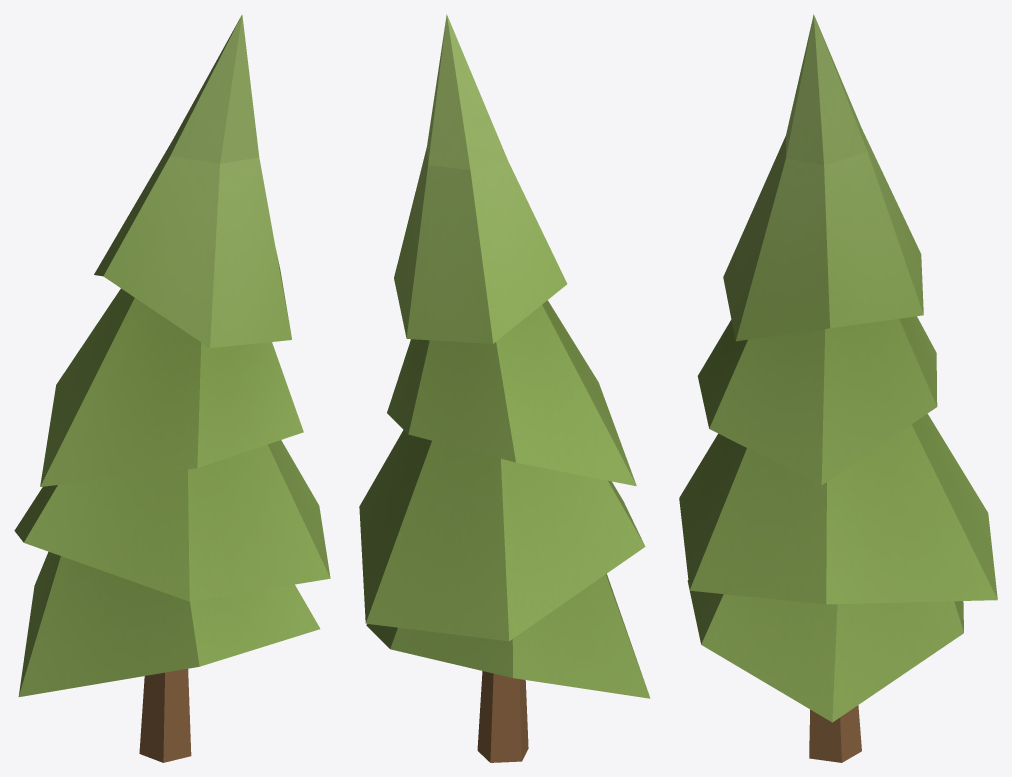
Rendered from Pine_Tree_m_10_LOD.fbx.
3 views of the same model, side by side, from view 1: azimuth 30°, elevation 25°; view 2: azimuth 150°, elevation 25°; view 3: azimuth 270°, elevation 25° (orthographic). The views are drawn at different scales.
Parts seen in each view (by area): view 1: Pine_Tree_m_10_LOD0; view 2: Pine_Tree_m_10_LOD0; view 3: Pine_Tree_m_10_LOD0.
Boxes of the visible parts, x1=… form: Pine_Tree_m_10_LOD0: x1=14, y1=14, x2=330, y2=762; Pine_Tree_m_10_LOD0: x1=359, y1=14, x2=650, y2=762; Pine_Tree_m_10_LOD0: x1=679, y1=14, x2=997, y2=762.
Size of what is drawn, in the model's own units: 257 by 600 by 225.
